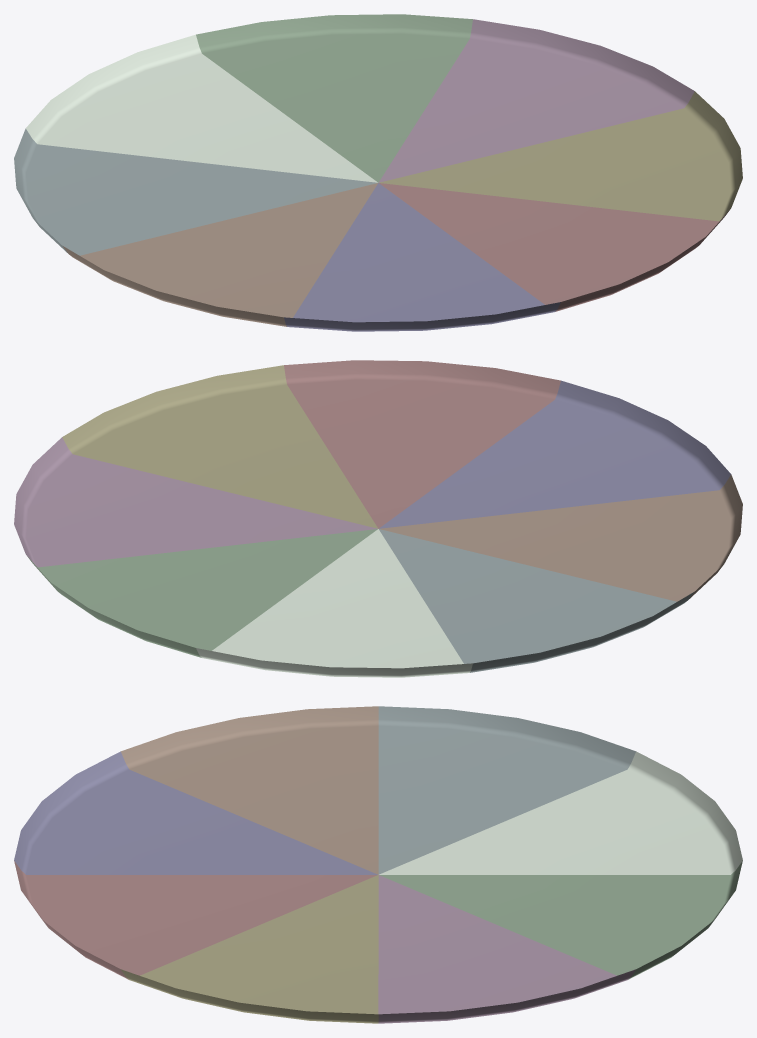
Rendered from GrpundCollider_farbig.fbx.
The picture shows the model from 3 angles, top to bottom: view 1: azimuth 30°, elevation 25°; view 2: azimuth 150°, elevation 25°; view 3: azimuth 270°, elevation 25°; orthographic projection.
Visible parts, largest first — view 1: polySurface8; view 2: polySurface8; view 3: polySurface8.
Boxes of the visible parts, left/top/right/bottom form: polySurface8: left=14, top=14, right=742, bottom=331; polySurface8: left=14, top=360, right=742, bottom=677; polySurface8: left=14, top=706, right=742, bottom=1023.
Size of the model in its own units: 100000 by 2205 by 100000.
